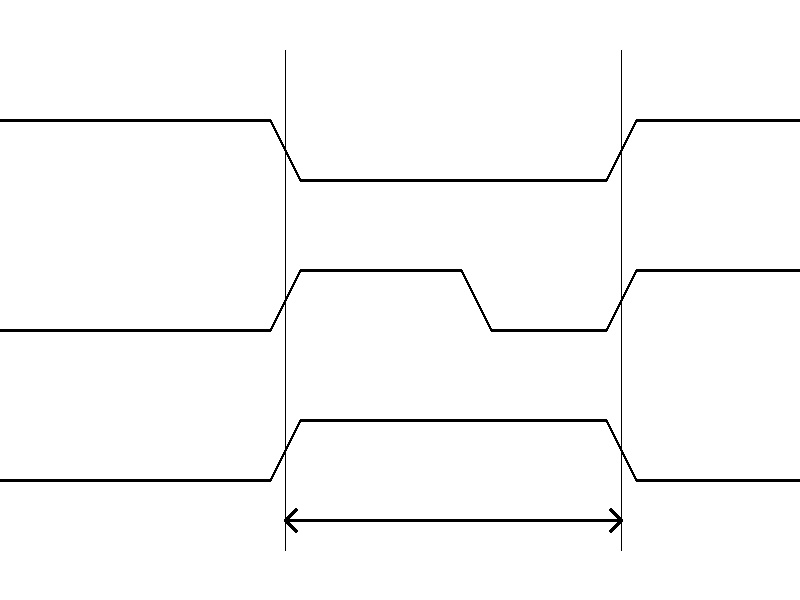double_arrow: (285, 505, 621, 535)
